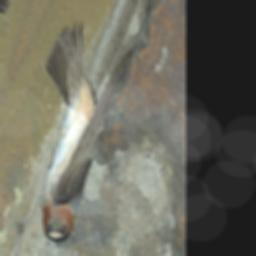Swallow: (0, 0, 145, 256)
